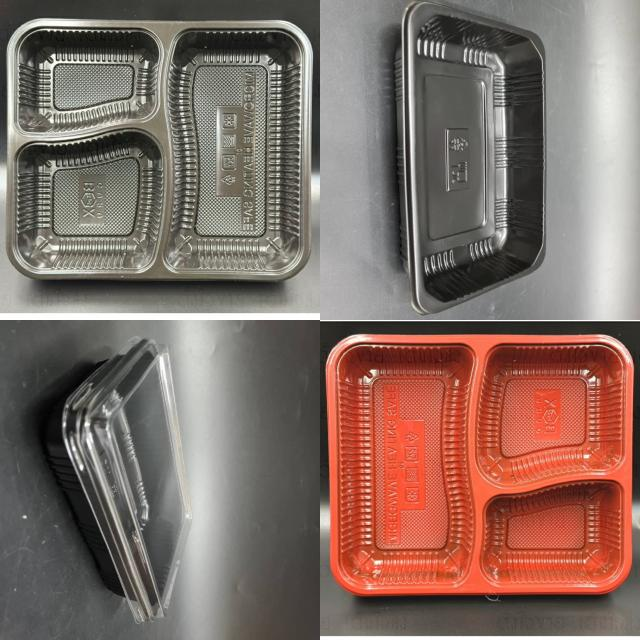Single-Use-Plastic: (326, 335, 634, 595), (6, 19, 312, 279), (395, 2, 544, 314), (44, 336, 191, 622)
